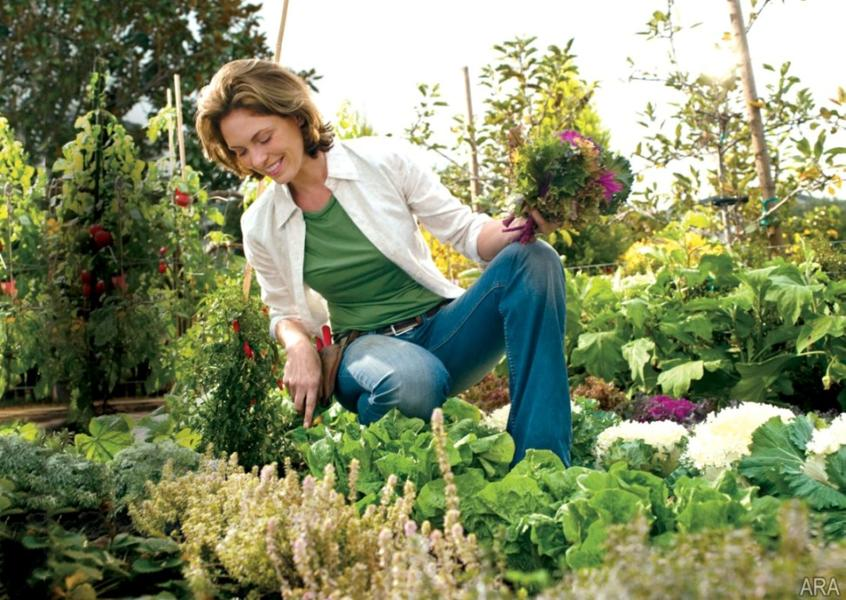person: (194, 59, 572, 464)
